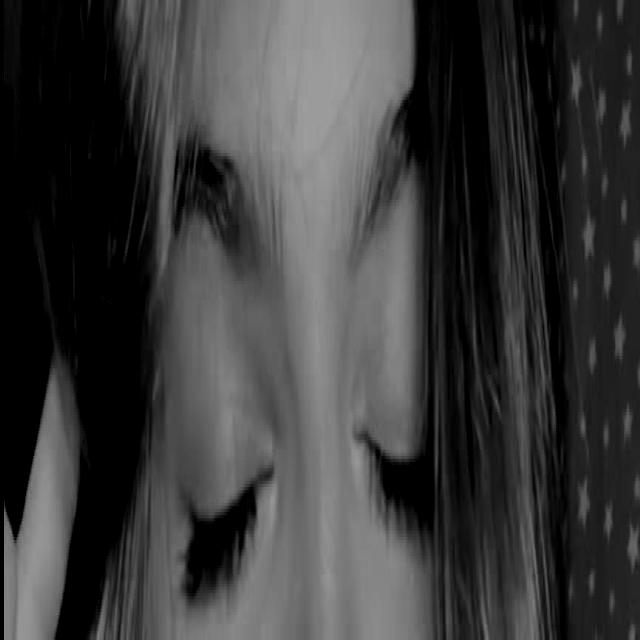real: (160, 240, 440, 616)
